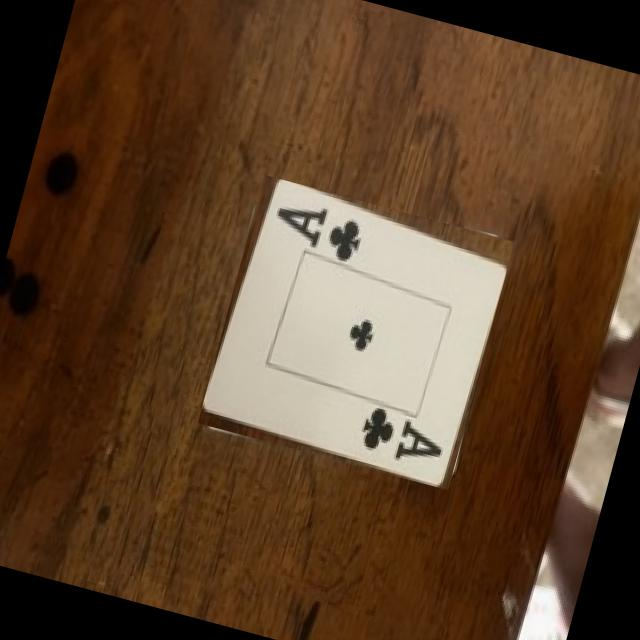Ace of clubs: (203, 180, 506, 486)
